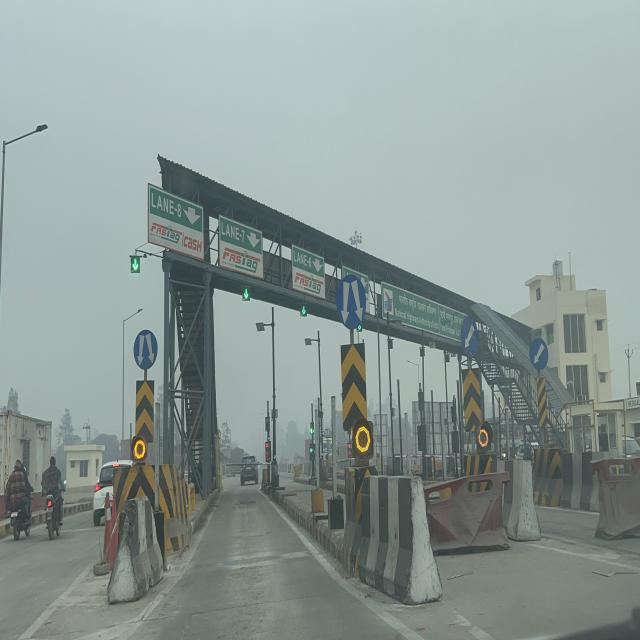KEEP_EITHER_SIDE: (336, 274, 366, 330), (133, 329, 158, 370)
KEEP_LEFT: (461, 316, 478, 358), (530, 337, 548, 371)
